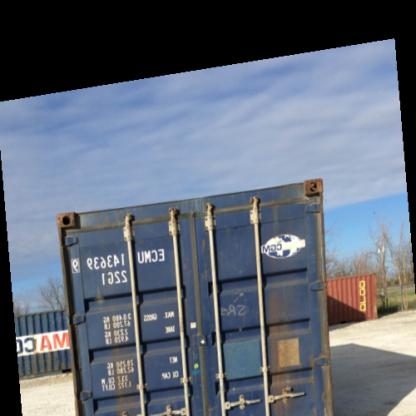Damage: (261, 289, 300, 401), (314, 249, 335, 404), (104, 315, 139, 399), (257, 176, 319, 210), (208, 288, 254, 322), (55, 210, 79, 230)
